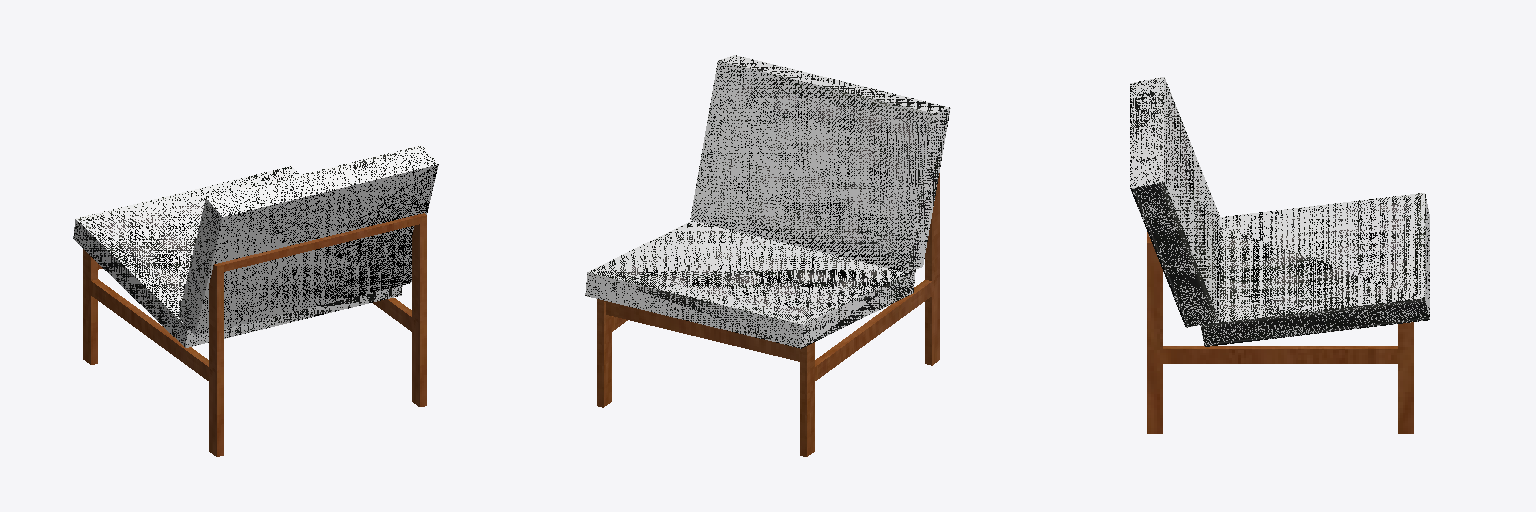
3 views of the same model, side by side, from view 1: azimuth 30°, elevation 25°; view 2: azimuth 150°, elevation 25°; view 3: azimuth 270°, elevation 25° (orthographic).
Visible parts, largest first — view 1: mesh10_mesh10-geometry, mesh9_mesh9-geometry, mesh1_mesh1-geometry, mesh3_mesh3-geometry, mesh5_mesh5-geometry; view 2: mesh10_mesh10-geometry, mesh9_mesh9-geometry, mesh1_mesh1-geometry, mesh6_mesh6-geometry, mesh3_mesh3-geometry; view 3: mesh9_mesh9-geometry, mesh10_mesh10-geometry, mesh3_mesh3-geometry.
Boxes of the visible parts, box(x1,y1,x2,y2) form: mesh10_mesh10-geometry: box(178, 145, 438, 335); mesh9_mesh9-geometry: box(73, 166, 402, 347); mesh1_mesh1-geometry: box(83, 249, 223, 456); mesh3_mesh3-geometry: box(373, 213, 426, 406); mesh5_mesh5-geometry: box(222, 215, 419, 271); mesh10_mesh10-geometry: box(690, 55, 950, 272); mesh9_mesh9-geometry: box(585, 221, 915, 348); mesh1_mesh1-geometry: box(800, 173, 939, 456); mesh6_mesh6-geometry: box(604, 301, 799, 361); mesh3_mesh3-geometry: box(597, 299, 627, 407); mesh9_mesh9-geometry: box(1200, 193, 1429, 346); mesh10_mesh10-geometry: box(1130, 77, 1219, 327); mesh3_mesh3-geometry: box(1147, 240, 1413, 433).
Bounding box in the file's own units: 0.5201 × 0.5832 × 0.624.
6 materials, 4 textured.